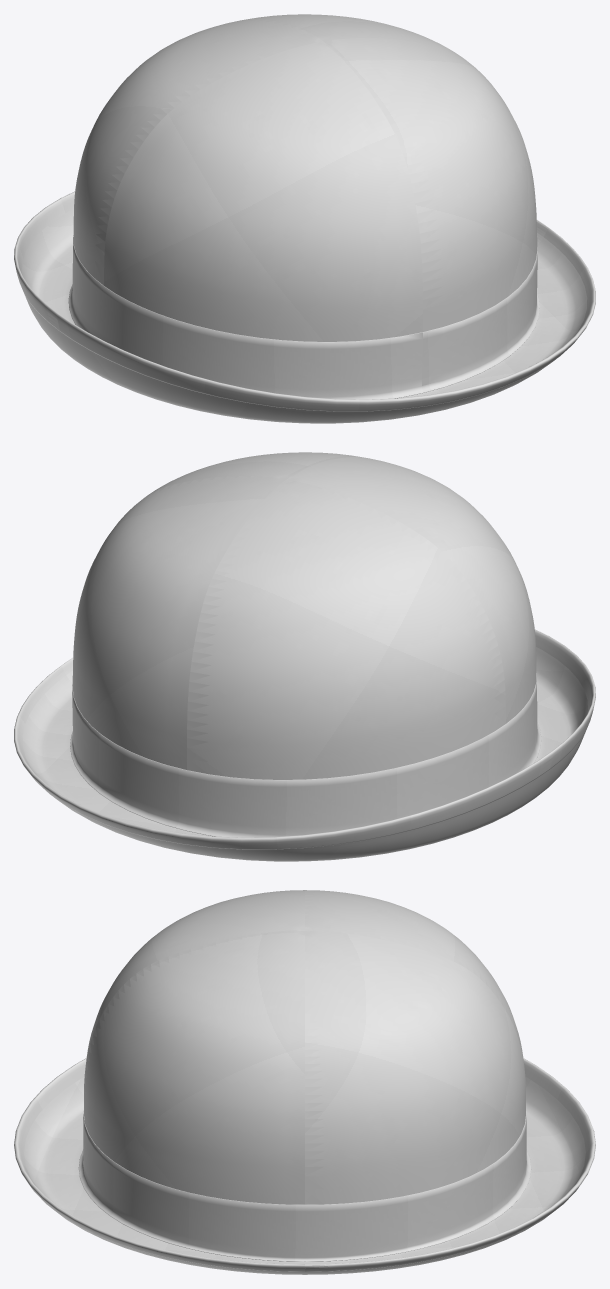
The model's file is hat-white.glb.
3 renders of one model, top to bottom at view 1: azimuth 30°, elevation 25°; view 2: azimuth 150°, elevation 25°; view 3: azimuth 270°, elevation 25°, orthographic. The views are drawn at different scales.
Visible parts, largest first — view 1: hat; view 2: hat; view 3: hat.
Boxes of the visible parts, <box> form: hat: <box>14,14,595,423</box>; hat: <box>14,452,595,861</box>; hat: <box>14,890,595,1274</box>.
Size of the model in its own units: 45.56 by 23.31 by 49.07.
Materials: 1 (1 with a texture image).
